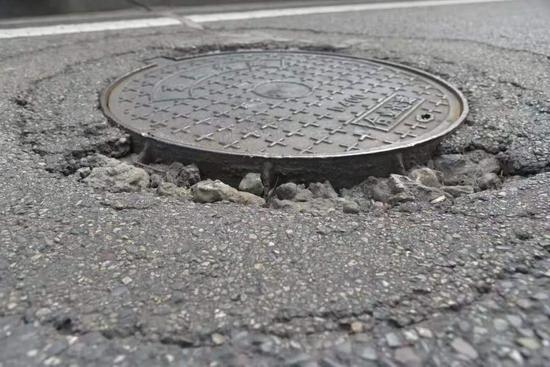circle: (19, 36, 540, 234)
